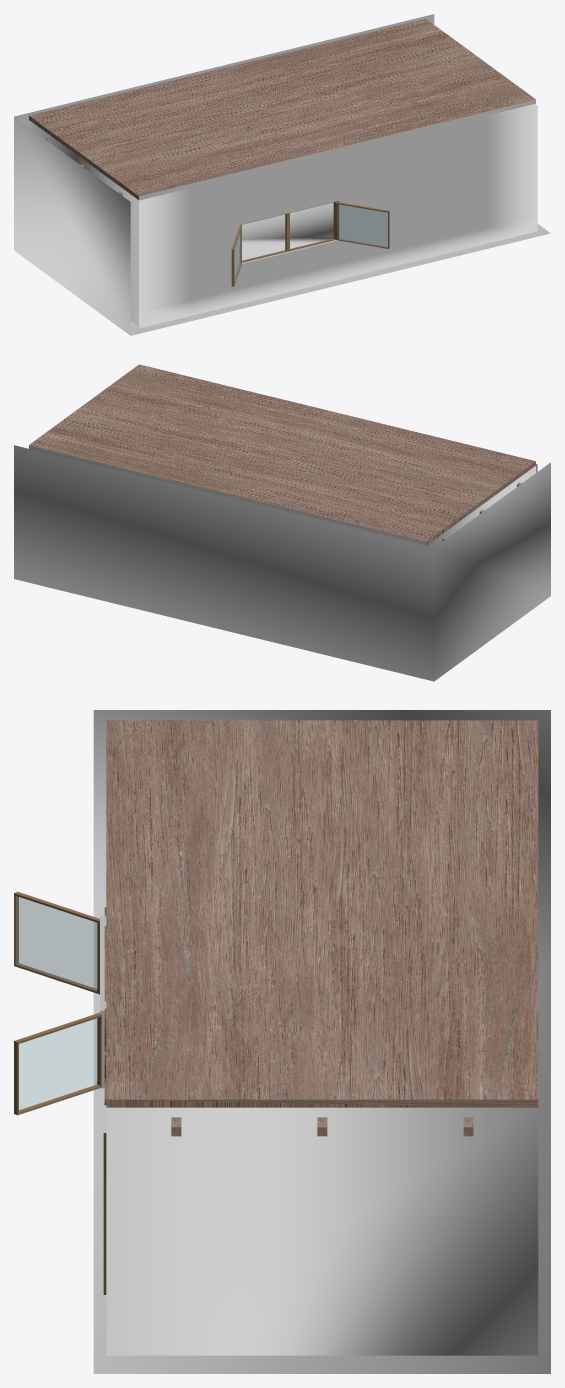
3 renders of one model, top to bottom at view 1: azimuth 30°, elevation 25°; view 2: azimuth 150°, elevation 25°; view 3: azimuth 270°, elevation 25°, orthographic. The views are drawn at different scales.
Visible parts, largest first — view 1: 部屋, 立方体; view 2: 部屋; view 3: 部屋, 立方体.
Part boxes in pixels (x1,y1,x2,y2): 部屋: [14, 14, 550, 335]; 立方体: [231, 201, 389, 286]; 部屋: [14, 364, 550, 681]; 部屋: [93, 710, 550, 1373]; 立方体: [14, 891, 106, 1115].
Bounding box in the file's own units: 19126 × 5846 × 10809.
